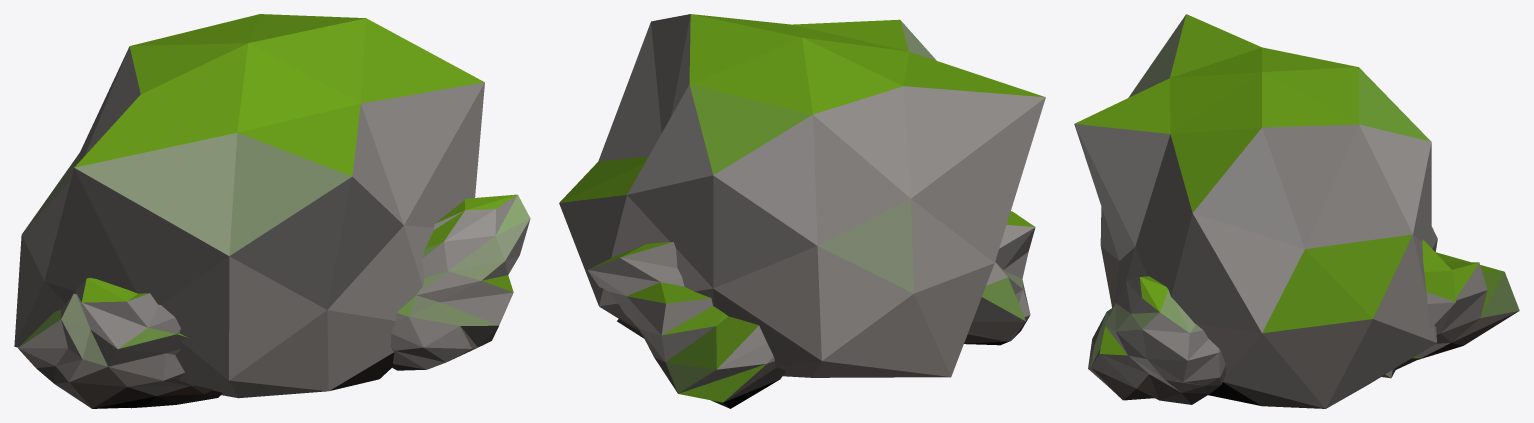
The model's file is batu_boulder_limestone_503136.glb.
The picture shows the model from 3 angles, left to right: view 1: azimuth 30°, elevation 25°; view 2: azimuth 150°, elevation 25°; view 3: azimuth 270°, elevation 25°; orthographic projection. The views are drawn at different scales.
Visible parts, largest first — view 1: Batu_Jeram_Sungai; view 2: Batu_Jeram_Sungai; view 3: Batu_Jeram_Sungai.
Part boxes in pixels (x1,y1,x2,y2): Batu_Jeram_Sungai: [14, 14, 530, 408]; Batu_Jeram_Sungai: [559, 14, 1045, 408]; Batu_Jeram_Sungai: [1074, 14, 1519, 408].
Size of the model in its own units: 6.45 by 4.26 by 6.11.
